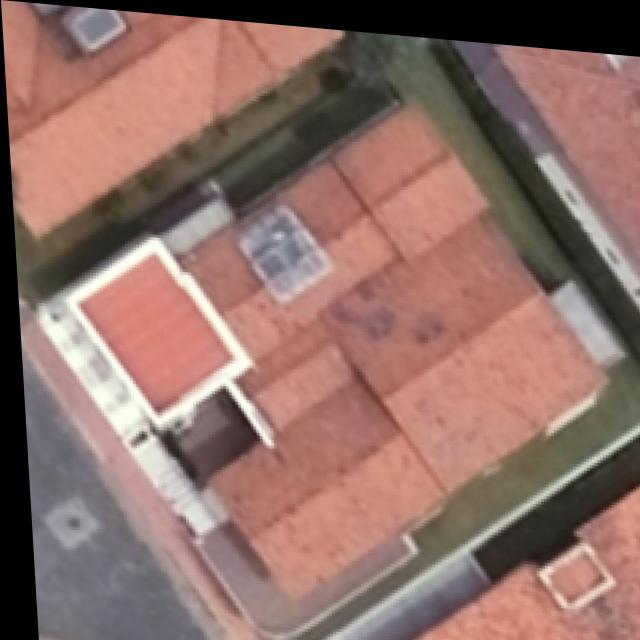Batiment: (175, 100, 598, 597), (1, 1, 340, 235), (453, 34, 640, 278), (397, 473, 640, 640), (65, 238, 240, 424)
